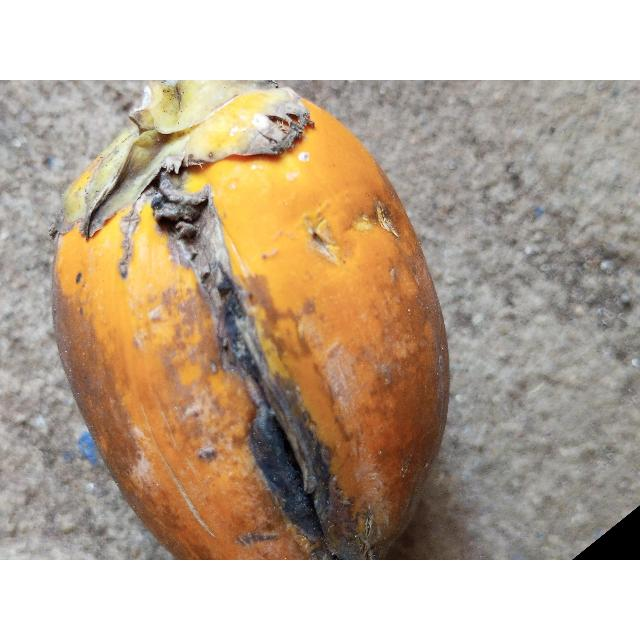damaged: (52, 80, 452, 560)
